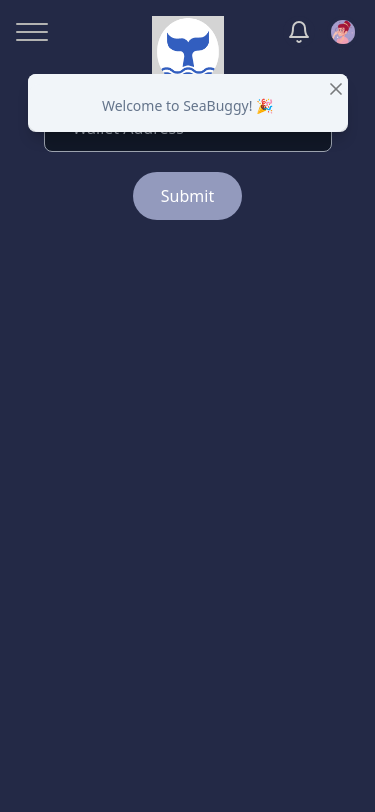
Scenario: mobile navbar › mobile menu › opens the mobile menu on click
The image size is (375, 812).
Click the link with test id "nav-hamburger-menu".
click(24, 32)  # box [8,16,40,48]
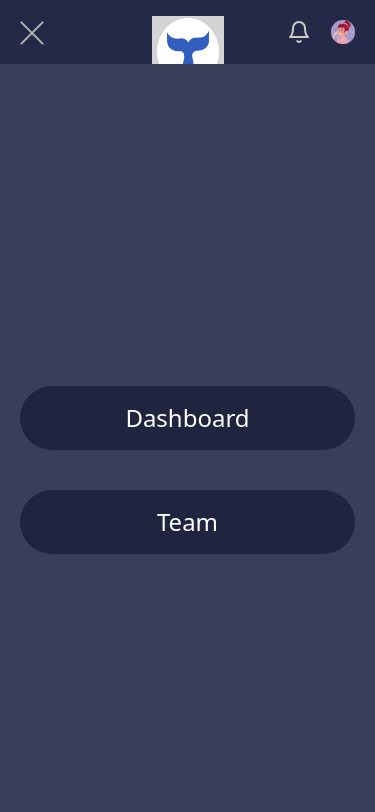
Check: the list with test id "nav-mobile-menu" is shown, box [20,386,355,554]
